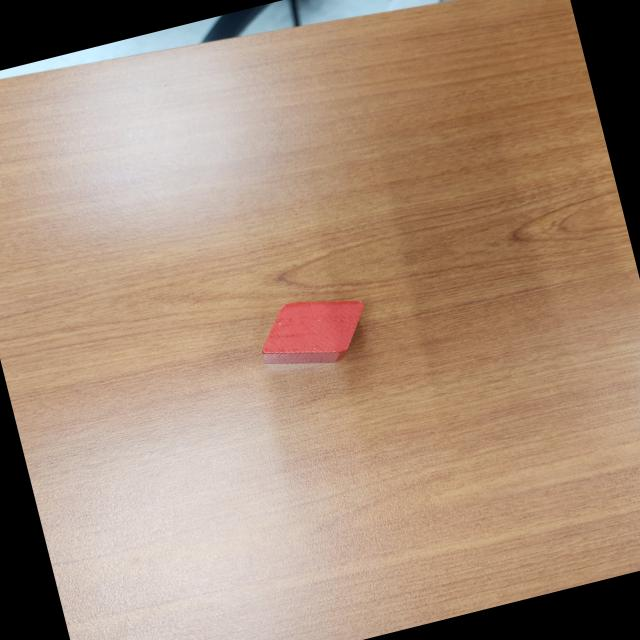red: (248, 286, 376, 379)
